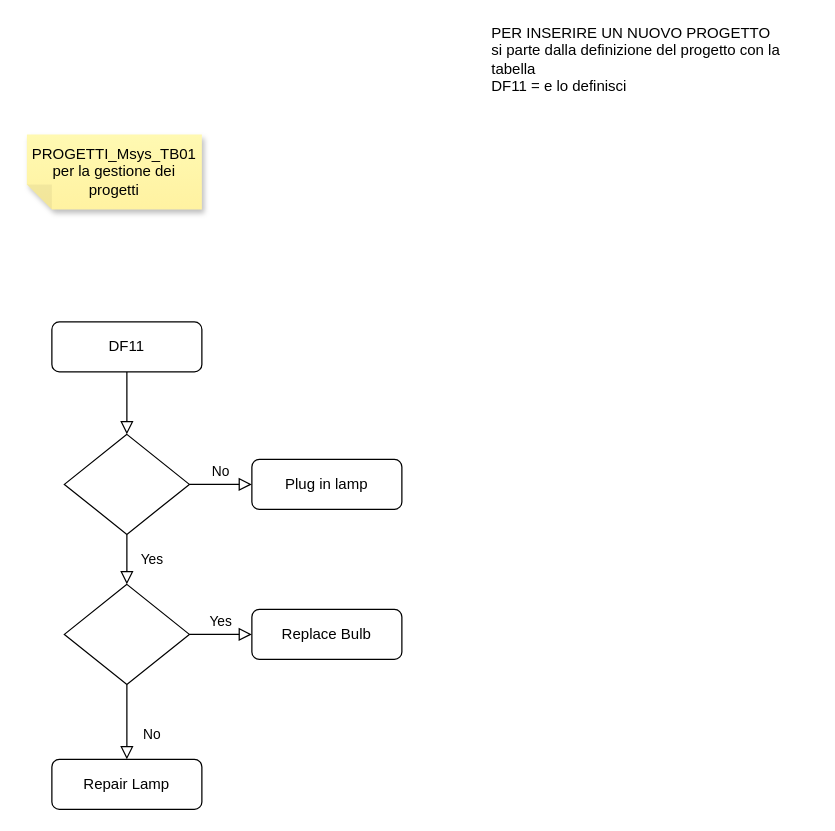
Image size: 835x831. Some labels were removed from this diagram. The shapes that lost their labels are listed below. From the top down, each one's centre as x and y in pixels, then its label:
At (126,483): "Lamp plugged in?".
At (126,633): "Bulb burned out?".
